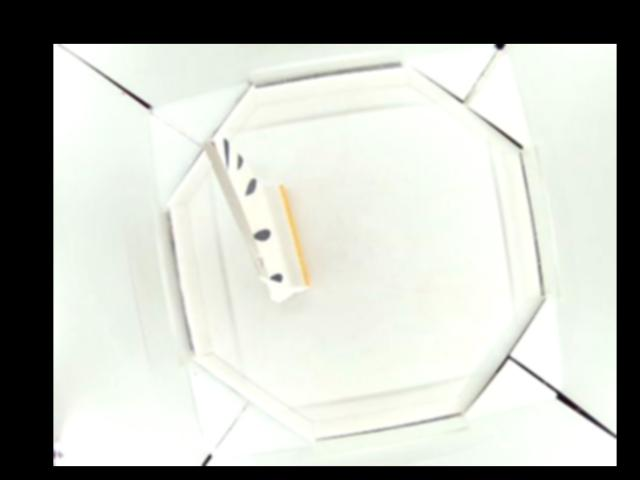China: (202, 137, 309, 302)
